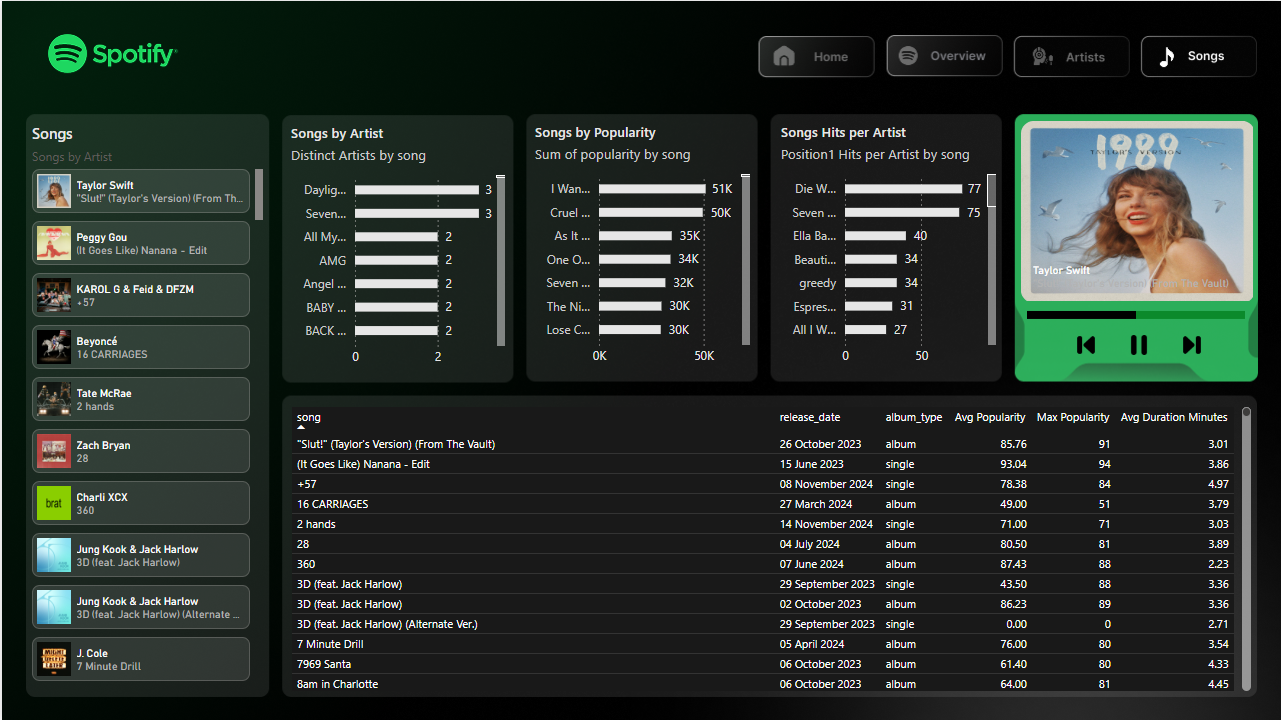

This screenshot's page, from the dashboard's own definition file:
{"tool":"powerbi","page":{"name":"Songs","canvas":[1280,720],"ordinal":3},"visuals":[{"type":"actionButton","box":[758.1,35.5,112.6,39.9],"z":0},{"type":"actionButton","box":[886.7,35.5,112.6,39.9],"z":1000},{"type":"actionButton","box":[1013.5,35.5,112.6,39.9],"z":2000},{"type":"actionButton","box":[1141.2,35.5,112.6,39.9],"z":3000},{"type":"advancedSlicerVisual","title":"Songs","fields":{"Values":["Top-50-World.song"]},"box":[993.1,114.4,283.7,191.5],"z":4000},{"type":"hundredPercentStackedBarChart","fields":{"Y":["_Measures.Avg Popularity","Avg(Top-50-World.popularity)"]},"box":[1019.7,281.1,227.9,61.2],"z":5000},{"type":"image","box":[1116.8,329,40,30],"z":6000},{"type":"image","box":[1064,329,40,30],"z":7000},{"type":"image","box":[1169.6,329,40,30],"z":8000},{"type":"shape","box":[1013.5,98.4,211,282],"z":9000},{"type":"clusteredBarChart","title":"Songs by Artist","fields":{"Category":["Top-50-World.song"],"Y":["_Measures.Distinct Artists"]},"box":[283.6,122.5,224.7,251.3],"z":10000},{"type":"clusteredBarChart","title":"Songs by Popularity","fields":{"Category":["Top-50-World.song"],"Y":["Sum(Top-50-World.popularity)"]},"box":[527.6,122.4,225.2,250.9],"z":11000},{"type":"clusteredBarChart","title":"Songs Hits per Artist","fields":{"Category":["Top-50-World.song"],"Y":["_Measures.Position1 Hits per Artist"]},"box":[774.1,122.4,225.2,250.9],"z":12000},{"type":"advancedSlicerVisual","title":"Songs","fields":{"Values":["Top-50-World.song"]},"box":[24.8,122.4,241.2,571.9],"z":13000},{"type":"tableEx","fields":{"Values":["Top-50-World.song","Top-50-World.release_date","Top-50-World.album_type","_Measures.Avg Popularity","_Measures.Max Popularity","_Measures.Avg Duration Minutes"]},"box":[283.6,400.9,970,293.6],"z":14000}]}

Visuals, with their boxes in screenshot pixels (x1, y1, x2, y2), scaled from the page's 1280x720 canvas onto the 1281x720 screenshot:
actionButton: 759,36,871,75
actionButton: 887,36,1000,75
actionButton: 1014,36,1127,75
actionButton: 1142,36,1255,75
"Songs" advancedSlicerVisual: 994,114,1278,306
hundredPercentStackedBarChart - _Measures.Avg Popularity x Avg(Top-50-World.popularity): 1020,281,1249,342
image: 1118,329,1158,359
image: 1065,329,1105,359
image: 1171,329,1211,359
shape: 1014,98,1225,380
"Songs by Artist" clusteredBarChart: 284,122,509,374
"Songs by Popularity" clusteredBarChart: 528,122,753,373
"Songs Hits per Artist" clusteredBarChart: 775,122,1000,373
"Songs" advancedSlicerVisual: 25,122,266,694
tableEx - Top-50-World.song x Top-50-World.release_date: 284,401,1255,694
